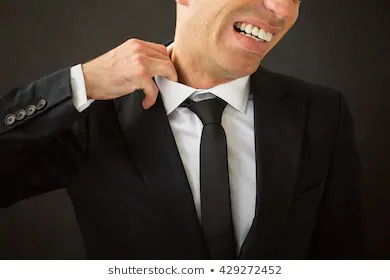F_tie: (172, 88, 246, 260)
